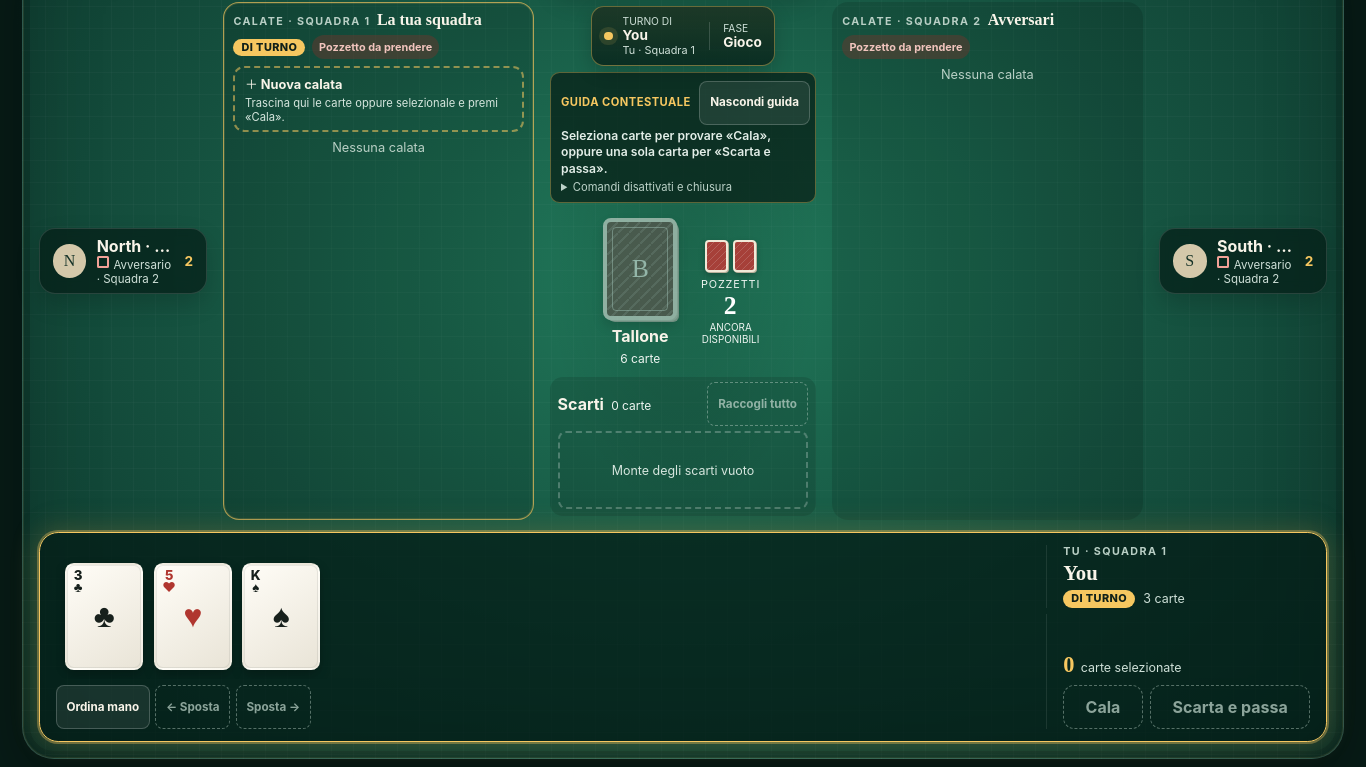
GameTable contextual coach (M36) › tracks the UI selection count without changing the Cala/Scarta e passa contracts
The width and height of the screenshot is (1366, 767).
(page scrolled)
Expected: the button "Cala" is disabled, [1063,685,1143,729]
Expected: the button "Scarta e passa" is disabled, [1150,685,1310,729]
Step 1. Click the button "3 ♣ ♣" → (104, 616), box [65,563,143,670]
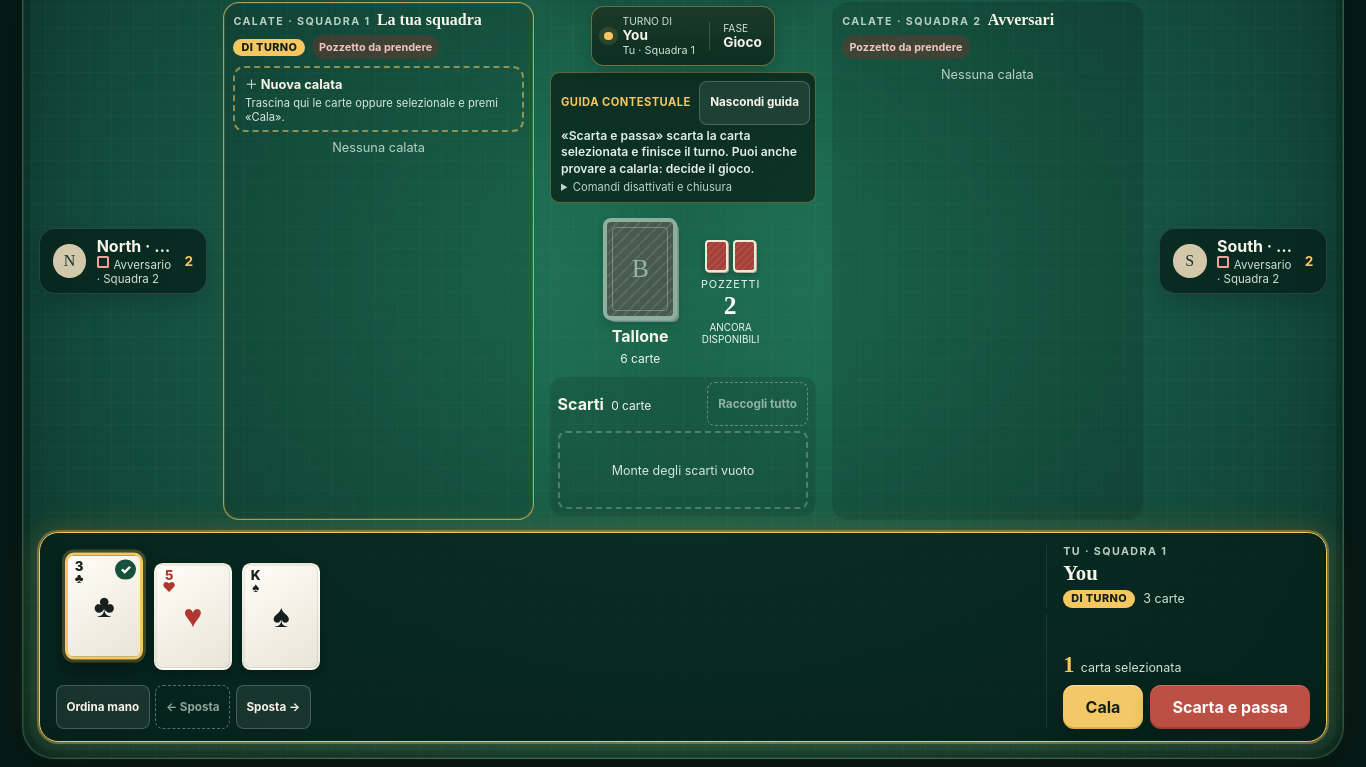
Now the element "Guida contestuale" shows "«Scarta e passa» scarta la carta selezionata", box [561,128,797,176]
Now the button "Cala" is enabled, box [1063,685,1143,729]
Now the button "Scarta e passa" is enabled, box [1150,685,1310,729]
Step 2. Click the button "5 ♥ ♥" → (193, 616), box [154,563,232,670]
(page scrolled)
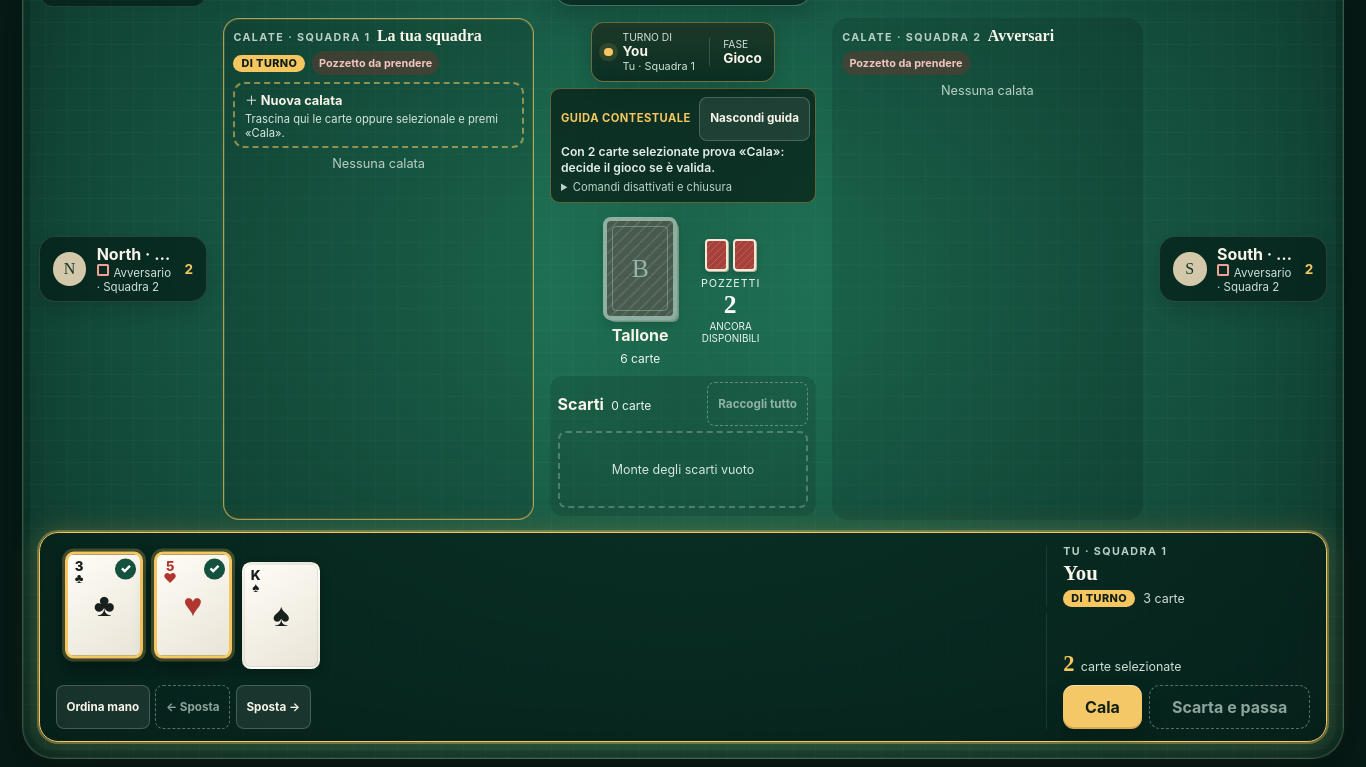
Now the button "Cala" is enabled, box [1063,685,1142,729]
Now the element "Guida contestuale" shows "Con 2 carte selezionate prova «Cala»", box [561,144,784,175]
Now the button "Scarta e passa" is disabled, box [1149,685,1310,729]
